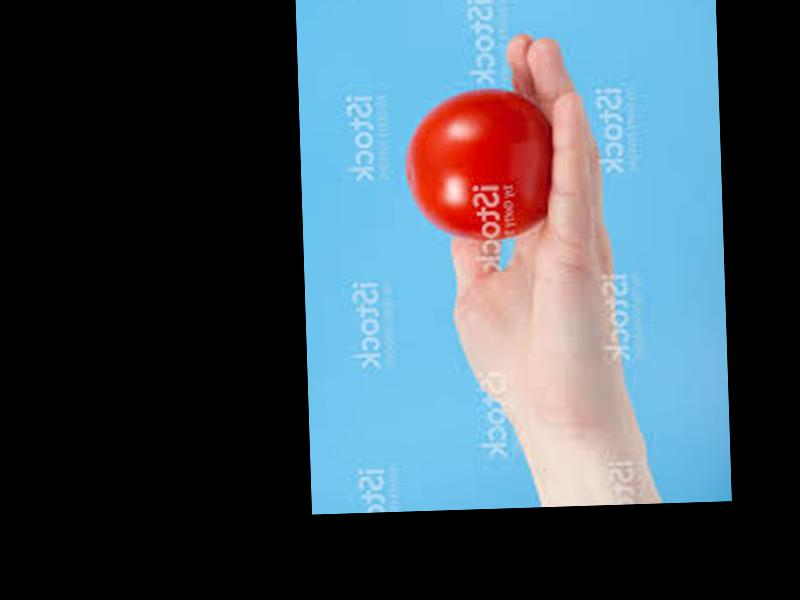Tomato: (406, 87, 553, 240)
